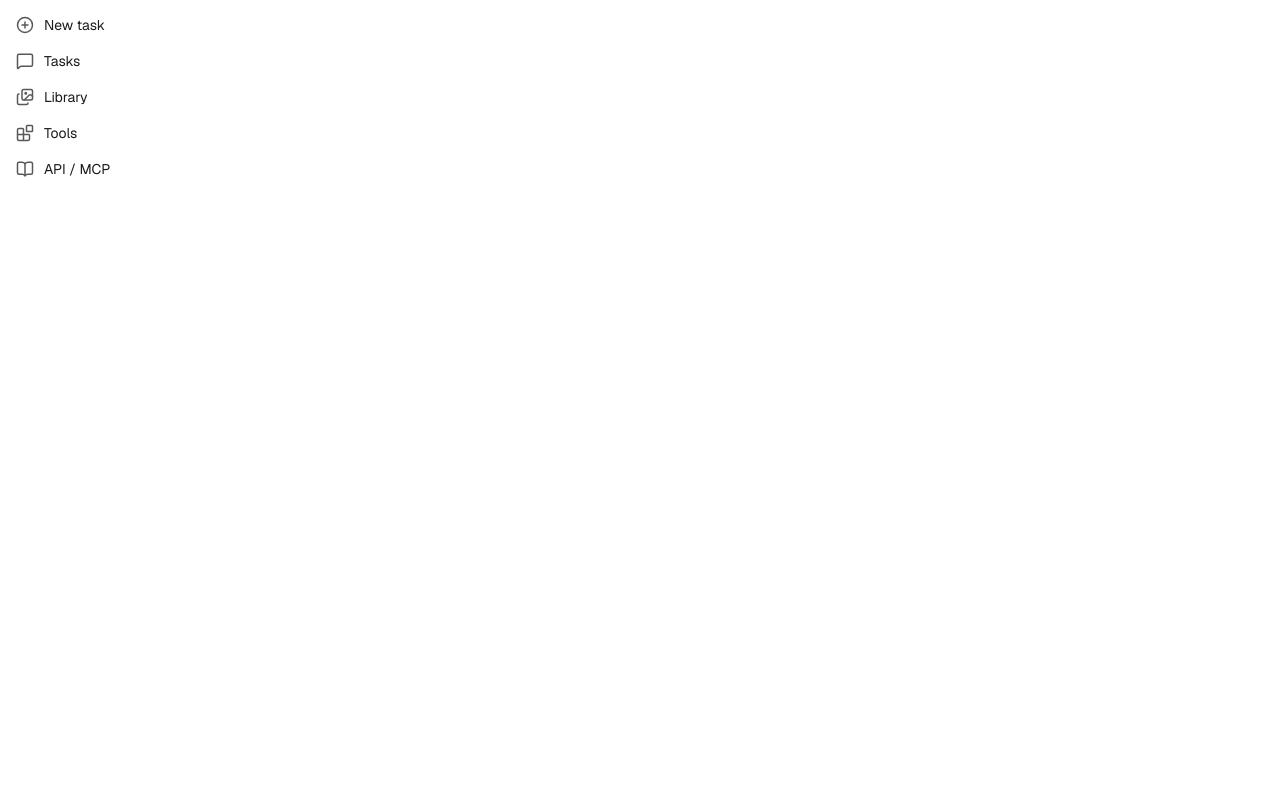
SidebarNav destinations › Tools opens a dialog listing config.tools labels and descriptions
Click the button "Tools" at [61, 133], box [8, 116, 1272, 150]
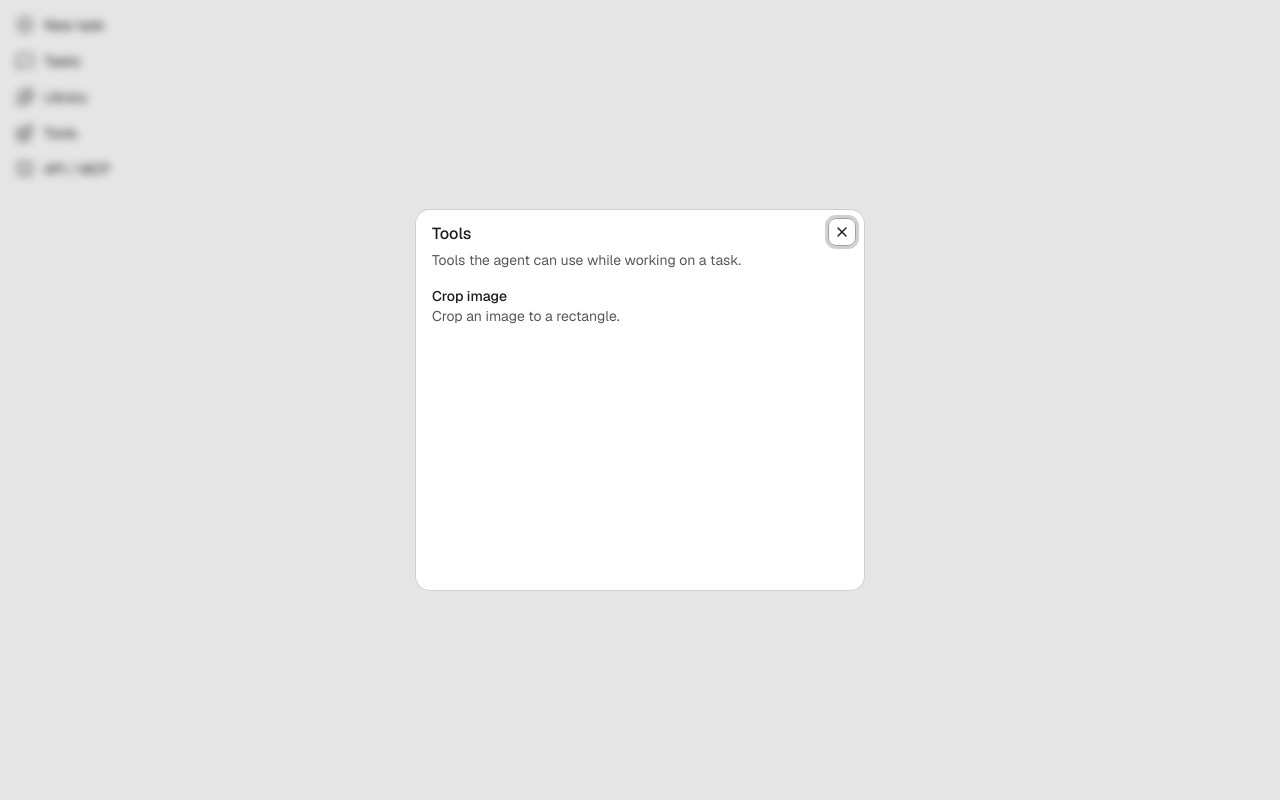
Expected: the dialog "Tools" is shown, [416, 210, 864, 590]
Expected: the text "Crop image" is shown, [432, 287, 507, 305]
Expected: the text "Crop an image to a rectangle." is shown, [432, 307, 620, 325]
